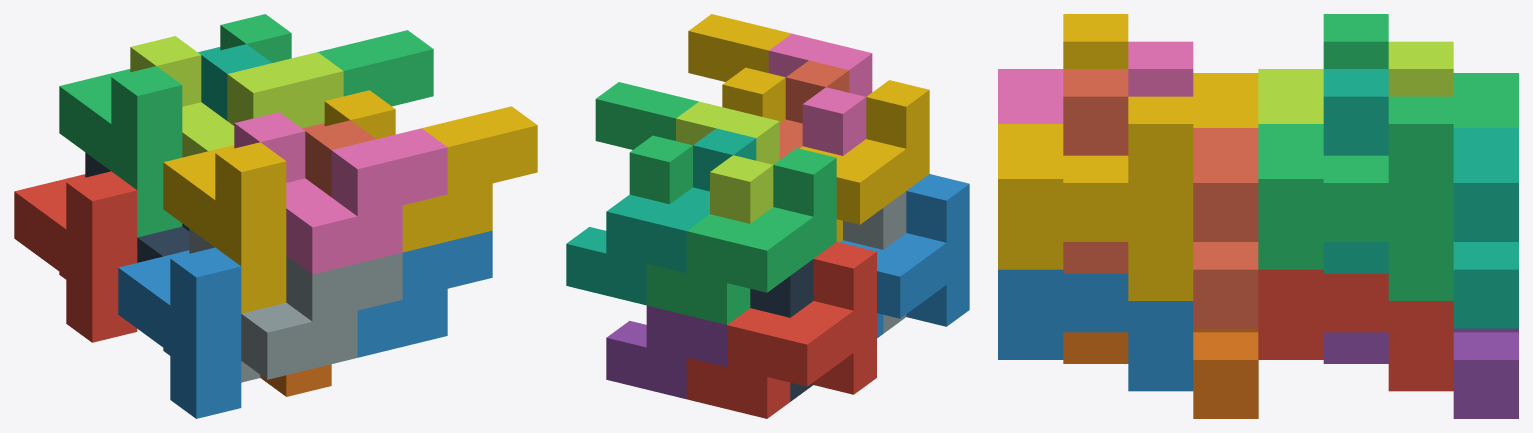
File: tiling.obj
3 renders of one model, left to right at view 1: azimuth 30°, elevation 25°; view 2: azimuth 150°, elevation 25°; view 3: azimuth 270°, elevation 25°, orthographic. The views are drawn at different scales.
Parts seen in each view (by area): view 1: copy_2_domain_4, copy_1_domain_2, copy_1_domain_1, copy_1_domain_4, copy_2_domain_8, copy_1_domain_3, copy_2_domain_2, copy_2_domain_3, copy_2_domain_6, copy_2_domain_7, copy_1_domain_7, copy_1_domain_8 (+2 smaller); view 2: copy_1_domain_1, copy_1_domain_3, copy_1_domain_7, copy_1_domain_2, copy_1_domain_4, copy_2_domain_7, copy_1_domain_5, copy_2_domain_8, copy_2_domain_4, copy_2_domain_3, copy_1_domain_8, copy_2_domain_2 (+1 smaller); view 3: copy_2_domain_7, copy_2_domain_8, copy_1_domain_7, copy_1_domain_8, copy_2_domain_5, copy_2_domain_6, copy_1_domain_5, copy_1_domain_6, copy_2_domain_3, copy_2_domain_4, copy_1_domain_3, copy_1_domain_4.
Part boxes in pixels (left/top/right/bottom): copy_2_domain_4: left=234, top=112, right=447, bottom=274; copy_1_domain_2: left=118, top=247, right=241, bottom=418; copy_1_domain_1: left=14, top=171, right=137, bottom=342; copy_1_domain_4: left=163, top=142, right=286, bottom=313; copy_2_domain_8: left=324, top=90, right=537, bottom=252; copy_1_domain_3: left=59, top=66, right=182, bottom=237; copy_2_domain_2: left=189, top=228, right=402, bottom=382; copy_2_domain_3: left=130, top=36, right=343, bottom=157; copy_2_domain_6: left=357, top=230, right=492, bottom=357; copy_2_domain_7: left=220, top=14, right=433, bottom=106; copy_1_domain_7: left=198, top=44, right=271, bottom=120; copy_1_domain_8: left=302, top=120, right=375, bottom=196; copy_1_domain_1: left=686, top=242, right=876, bottom=418; copy_1_domain_3: left=646, top=148, right=836, bottom=324; copy_1_domain_7: left=566, top=128, right=756, bottom=305; copy_1_domain_2: left=840, top=174, right=969, bottom=338; copy_1_domain_4: left=800, top=80, right=929, bottom=242; copy_2_domain_7: left=595, top=82, right=698, bottom=204; copy_1_domain_5: left=606, top=305, right=726, bottom=399; copy_2_domain_8: left=688, top=14, right=791, bottom=123; copy_2_domain_4: left=768, top=33, right=872, bottom=155; copy_2_domain_3: left=676, top=101, right=779, bottom=223; copy_1_domain_8: left=779, top=60, right=849, bottom=159; copy_2_domain_2: left=843, top=191, right=906, bottom=333; copy_2_domain_7: left=1258, top=96, right=1453, bottom=300; copy_2_domain_8: left=998, top=96, right=1193, bottom=300; copy_1_domain_7: left=1323, top=69, right=1518, bottom=328; copy_1_domain_8: left=1063, top=69, right=1258, bottom=328; copy_2_domain_5: left=1258, top=269, right=1453, bottom=391; copy_2_domain_6: left=998, top=269, right=1193, bottom=391; copy_1_domain_5: left=1323, top=328, right=1518, bottom=418; copy_1_domain_6: left=1063, top=328, right=1258, bottom=418; copy_2_domain_3: left=1258, top=41, right=1453, bottom=123; copy_2_domain_4: left=998, top=41, right=1193, bottom=123; copy_1_domain_3: left=1323, top=14, right=1518, bottom=127; copy_1_domain_4: left=1063, top=14, right=1258, bottom=127.
Bounding box in the file's own units: 7 × 5 × 8.
